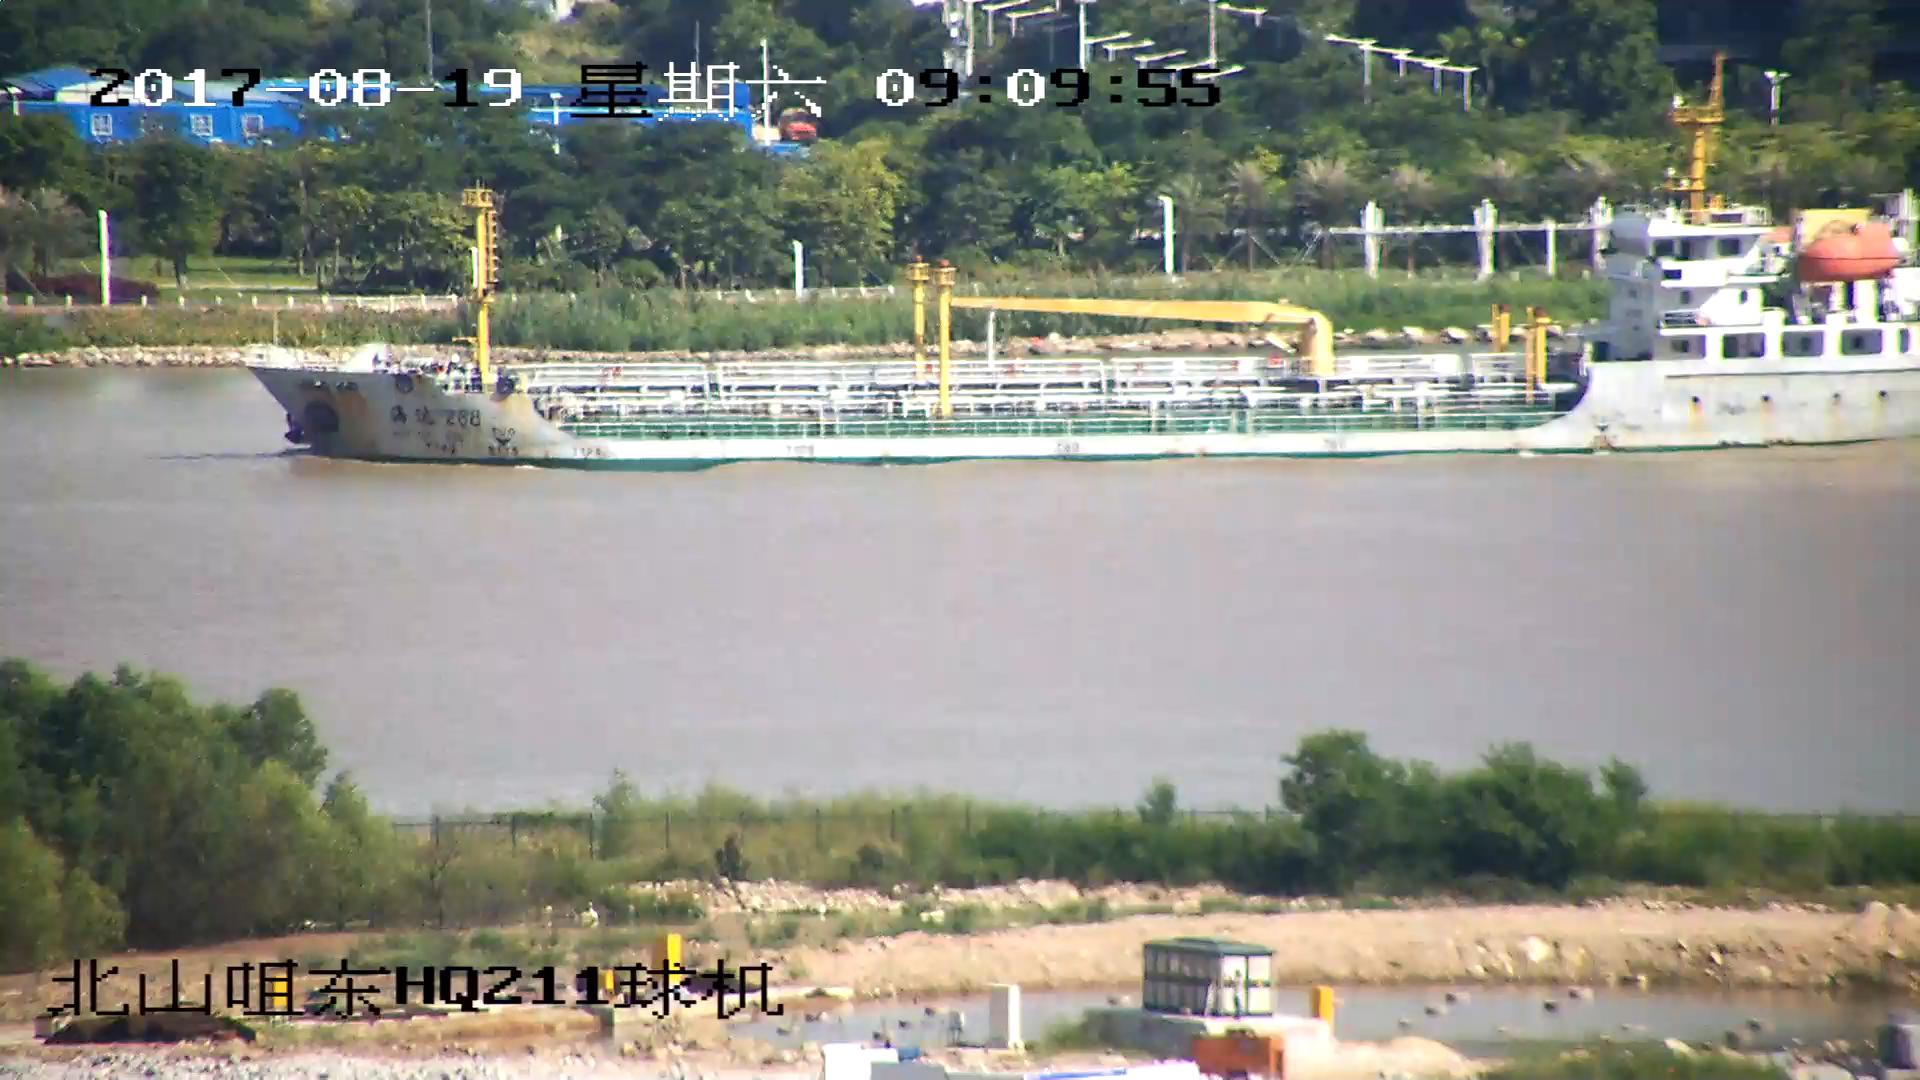general cargo ship: (241, 110, 1920, 463)
